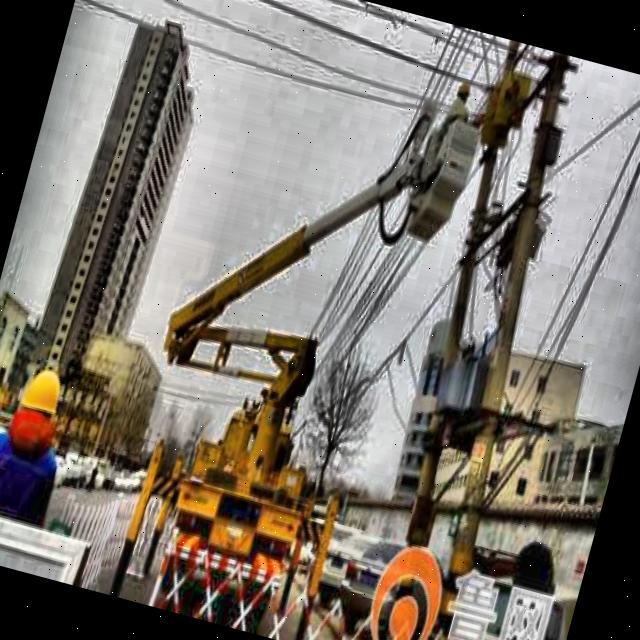helmet: (7, 359, 70, 452)
